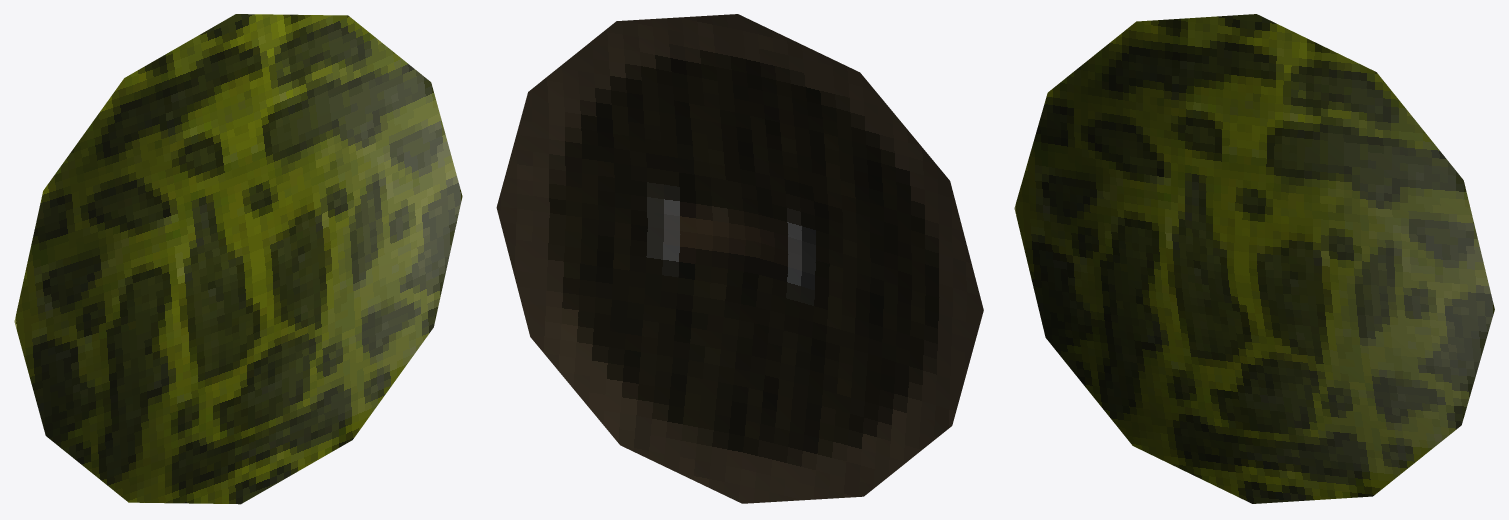
3 views of the same model, side by side, from view 1: azimuth 30°, elevation 25°; view 2: azimuth 150°, elevation 25°; view 3: azimuth 330°, elevation 25° (orthographic).
Parts seen in each view (by area): view 1: it217; view 2: it217; view 3: it217.
Part boxes in pixels (x1,y1,x2,y2): it217: (14,14,462,504); it217: (496,14,983,503); it217: (1014,14,1494,503).
Bounding box in the file's own units: 2.38 × 2.39 × 0.2498.
Materials: 2 (2 with a texture image).
